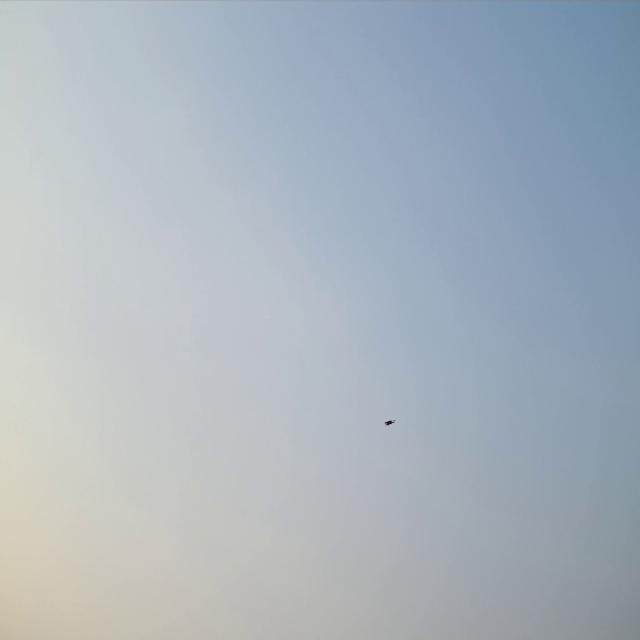UAV: (384, 415, 396, 428)
